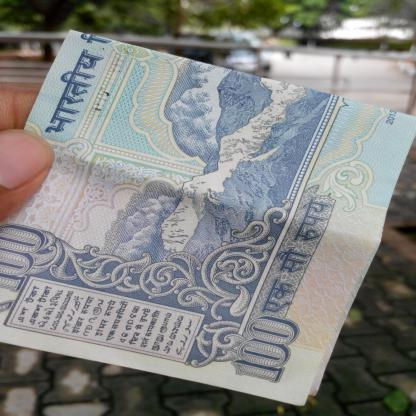Old100Back: (0, 28, 416, 408)
